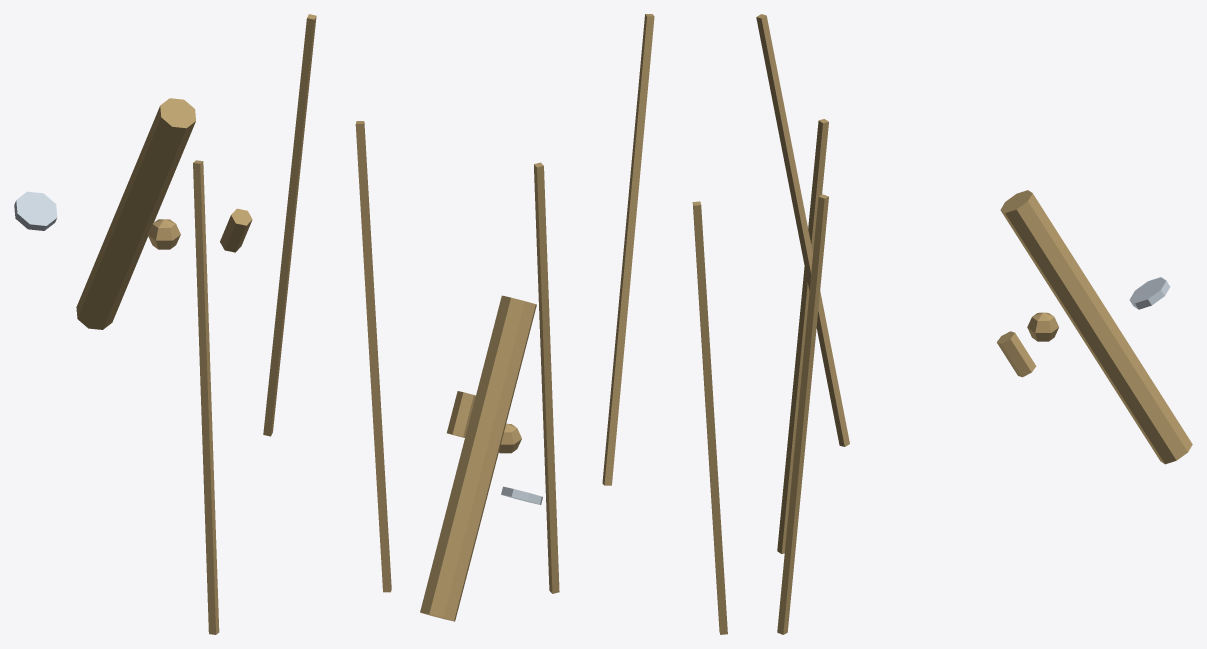
File: telescope.obj
The picture shows the model from 3 angles, left to right: view 1: azimuth 30°, elevation 25°; view 2: azimuth 150°, elevation 25°; view 3: azimuth 270°, elevation 25°; orthographic projection. The views are drawn at different scales.
Parts seen in each view (by area): view 1: Telescope; view 2: Telescope; view 3: Telescope.
Boxes of the visible parts, <box> form: Telescope: <box>14,14,391,634</box>; Telescope: <box>420,14,727,634</box>; Telescope: <box>756,14,1192,634</box>.
Bounding box in the file's own units: 0.379 × 1.19 × 0.8183.
